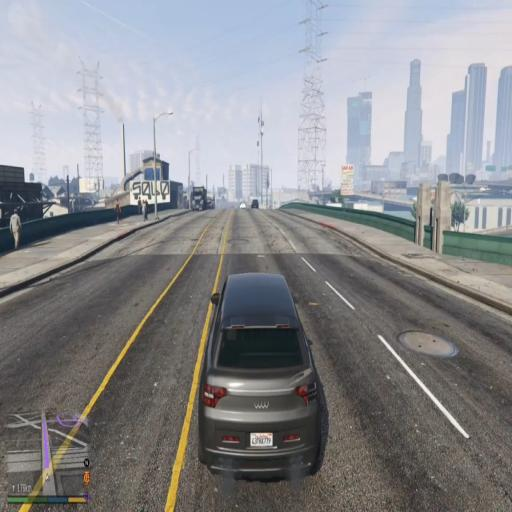Cars: (194, 258, 331, 482)
People: (8, 206, 24, 256), (136, 193, 152, 221), (111, 196, 124, 228)
Trucks: (190, 184, 212, 213)
